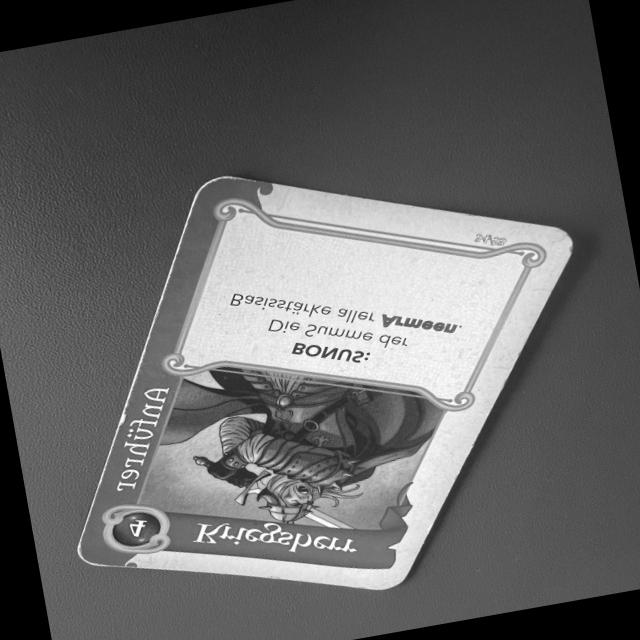Warlord: (69, 167, 589, 594)
